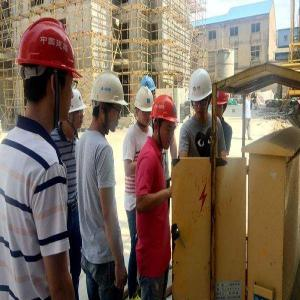red: (15, 15, 76, 129), (151, 94, 179, 152), (210, 87, 228, 121)
white: (90, 68, 128, 137), (186, 67, 214, 122), (63, 87, 87, 134), (135, 87, 157, 130)
